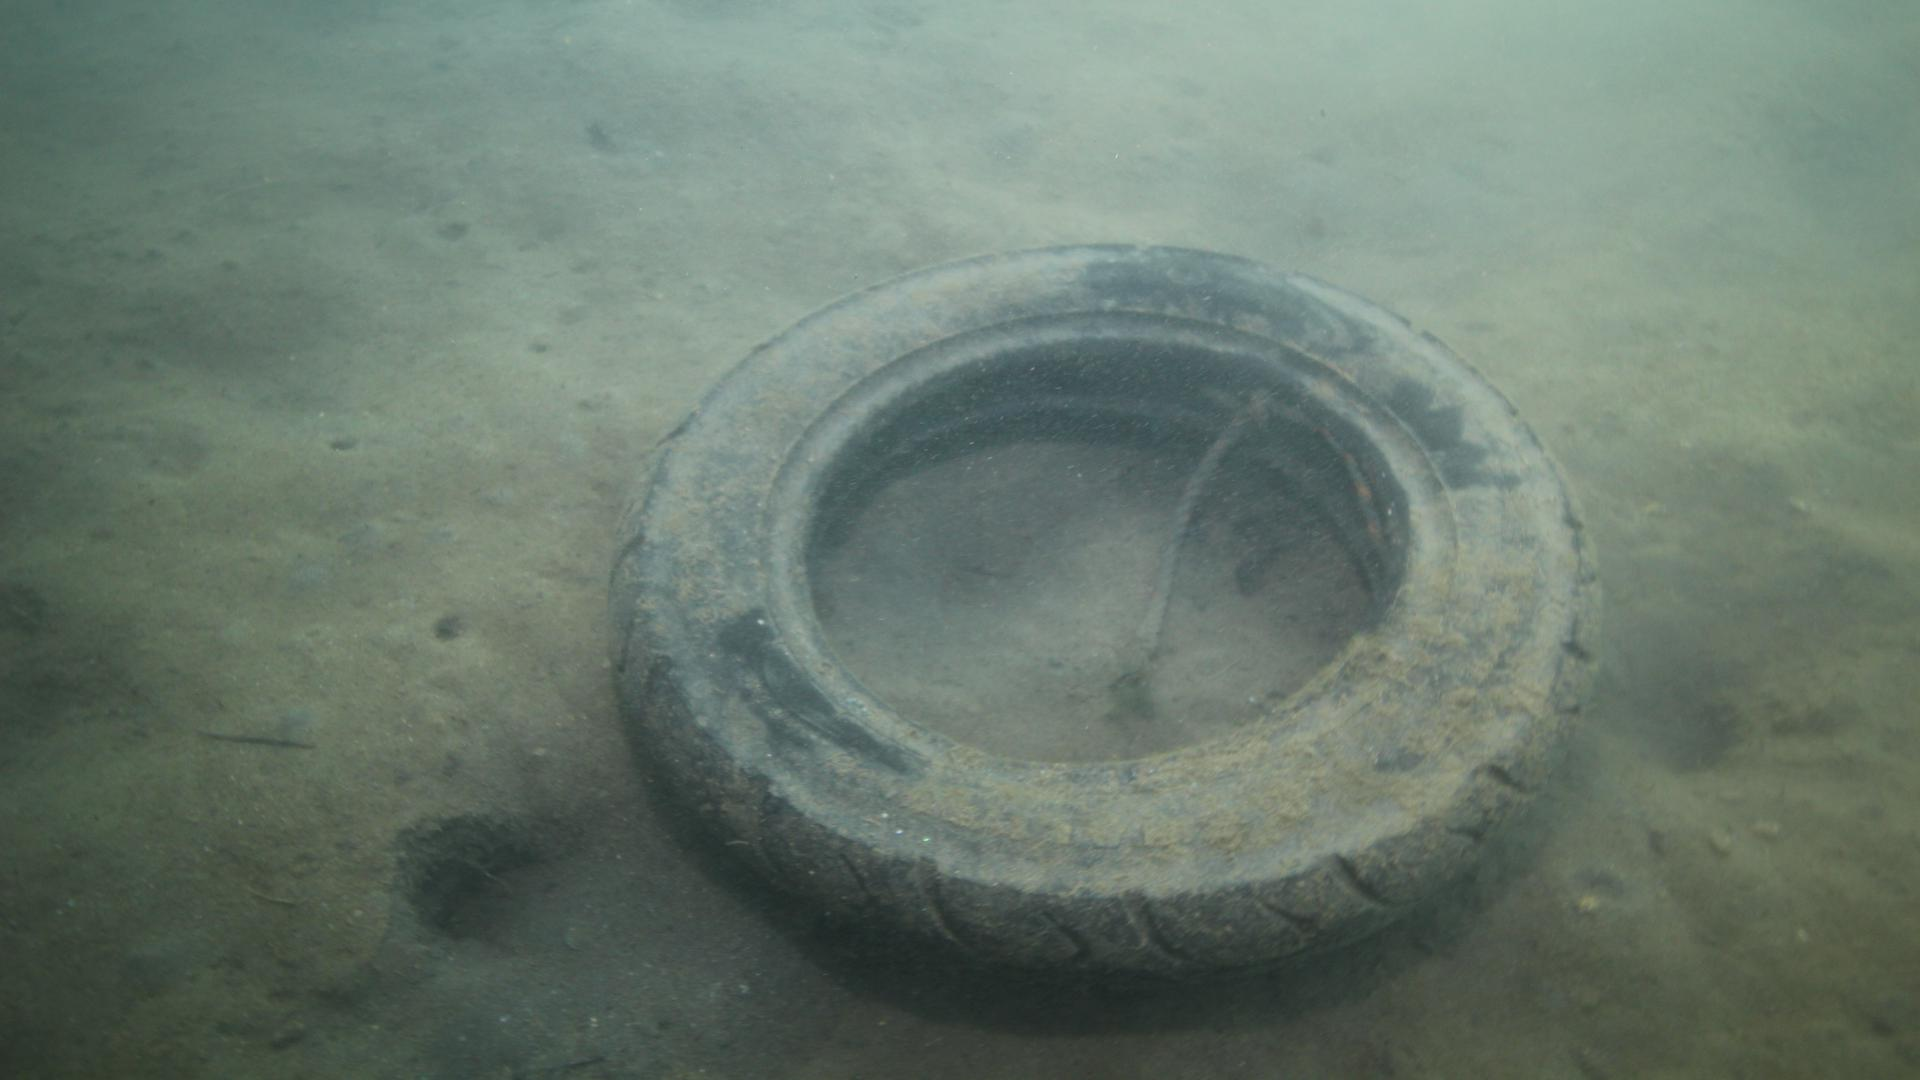rope: (1129, 385, 1273, 638)
tire: (603, 237, 1606, 993)
